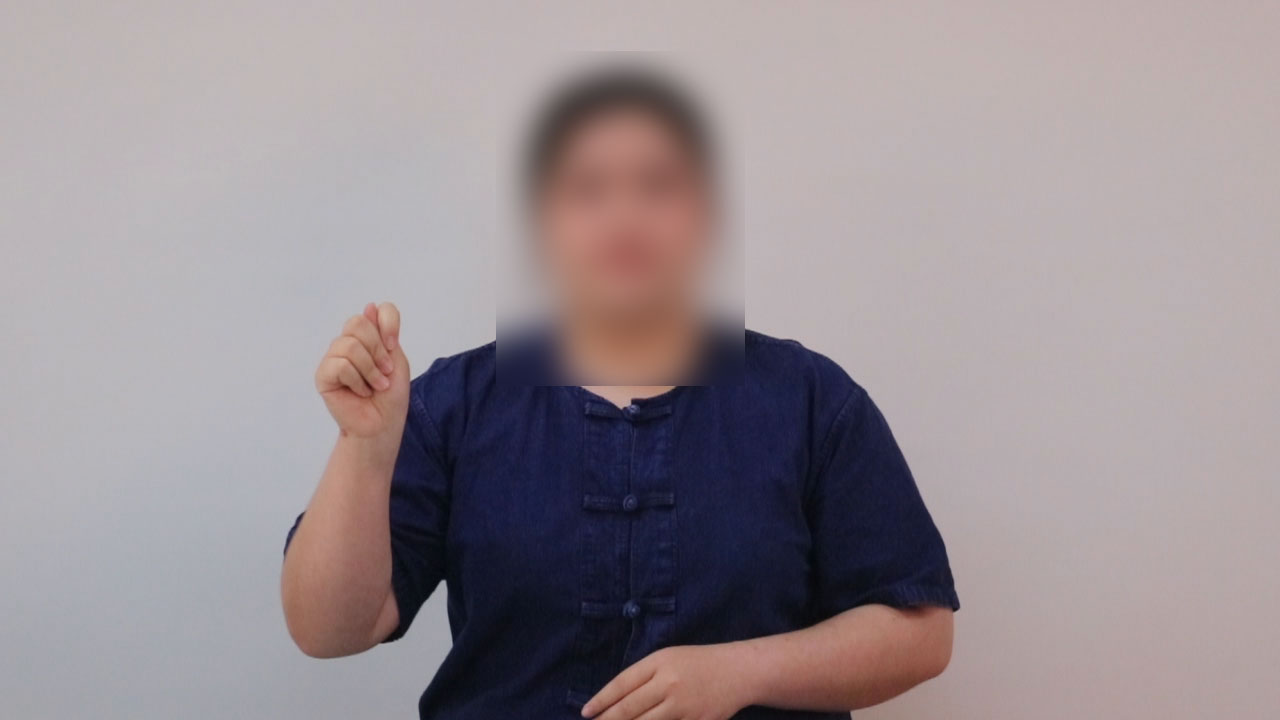tor: (294, 282, 457, 460)
